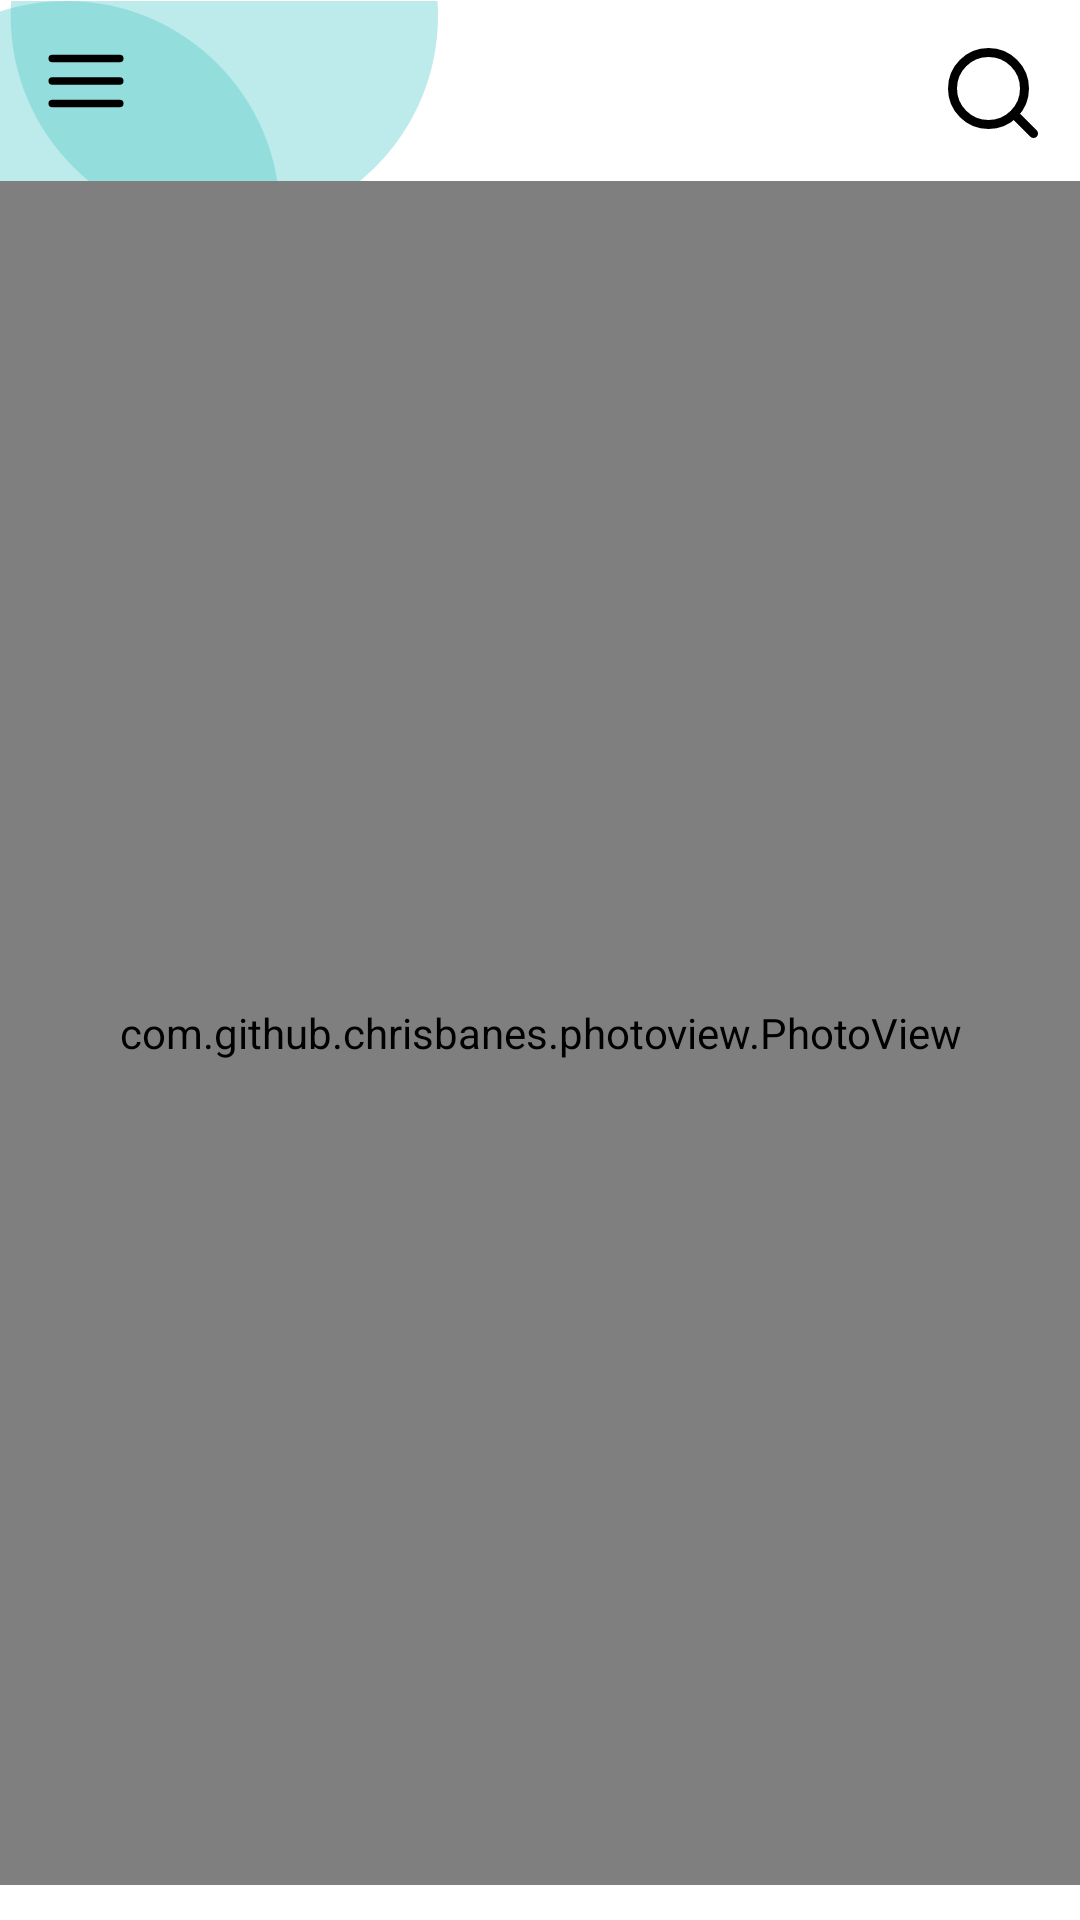

Screen size 1080*1920. Icon name, then its center in pixels as (x=x, y=y):
search: (x=993, y=93)
